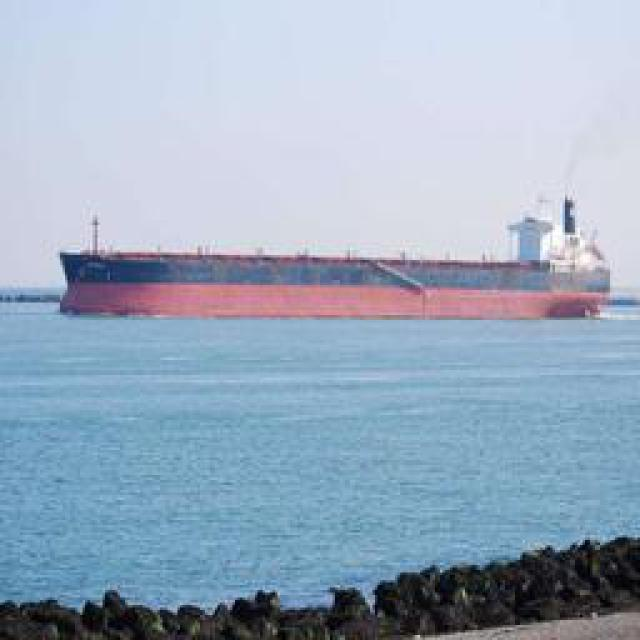Ship: (61, 222, 611, 320)
